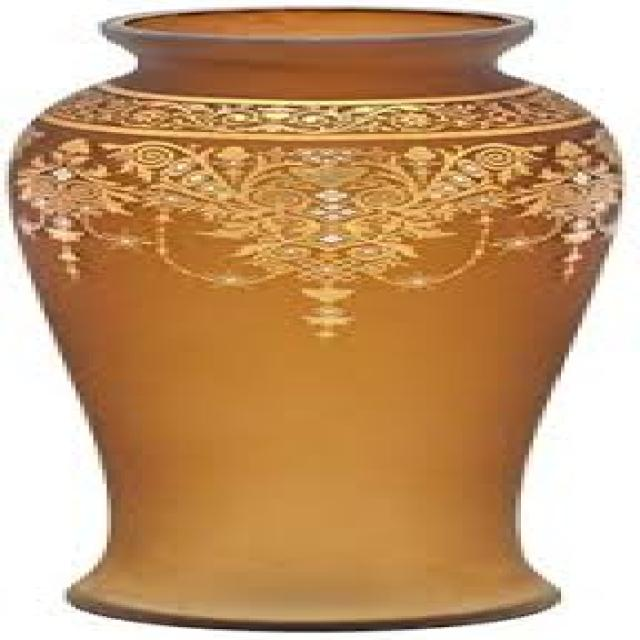glass: (9, 4, 613, 629)
